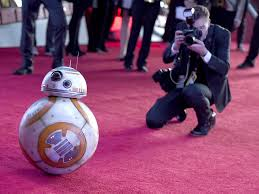bb8: (18, 66, 99, 175)
